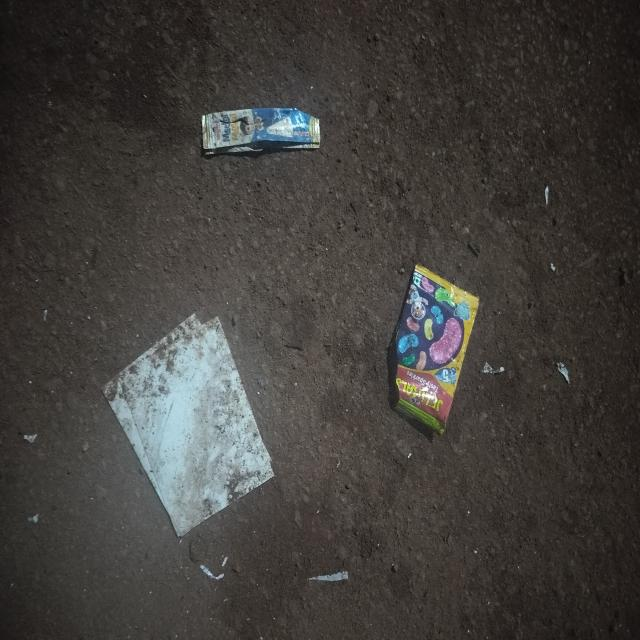dry: (77, 313, 286, 541), (384, 237, 502, 448), (173, 71, 354, 170)
